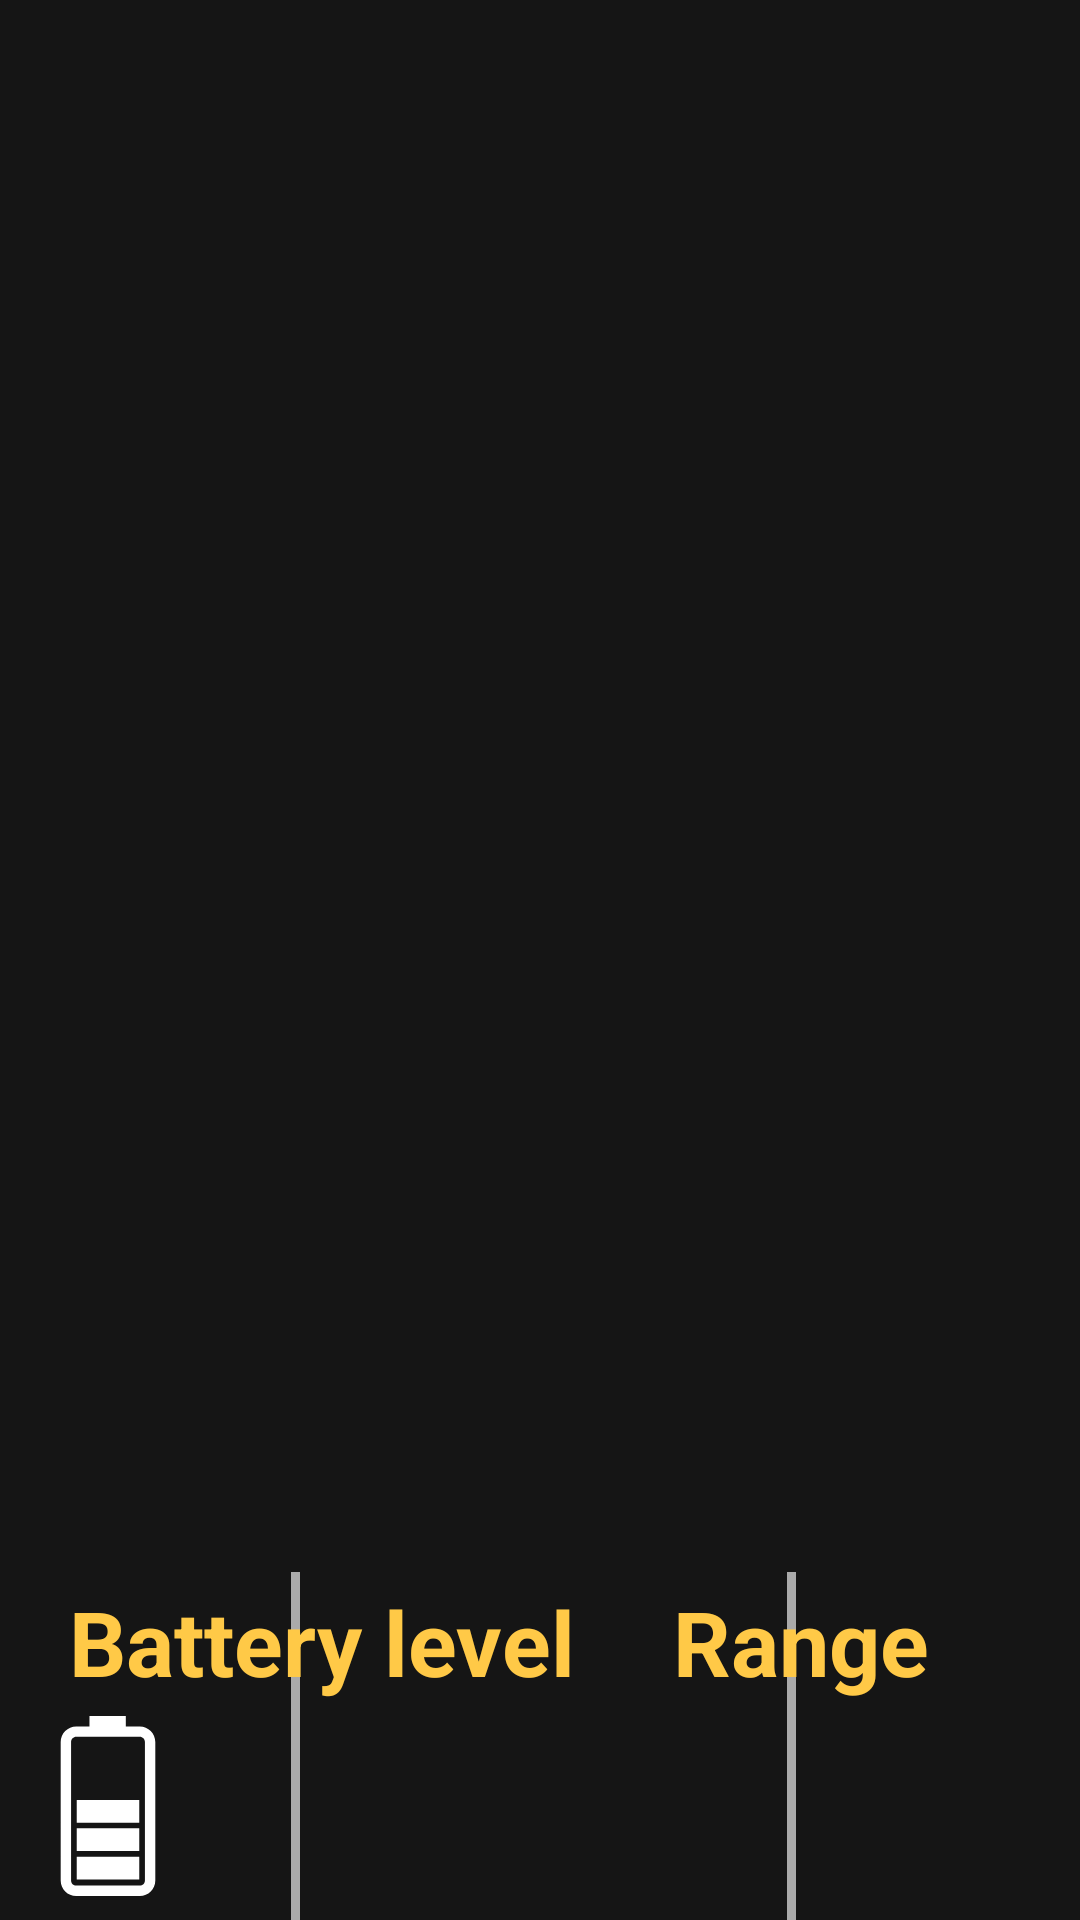

Named icons in this screenshot (1080 x 1920) and their bounding boxes, (x1, y1, x2, y2):
battery status medium: (60, 1716, 156, 1896)
